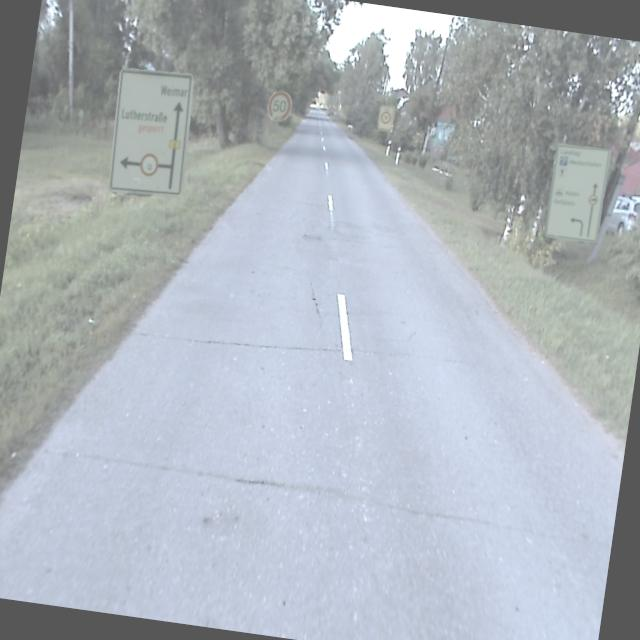road: (0, 108, 624, 640)
